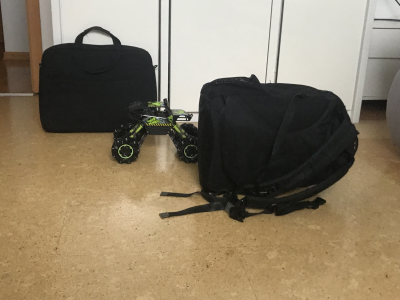remote control car: (110, 96, 203, 166)
